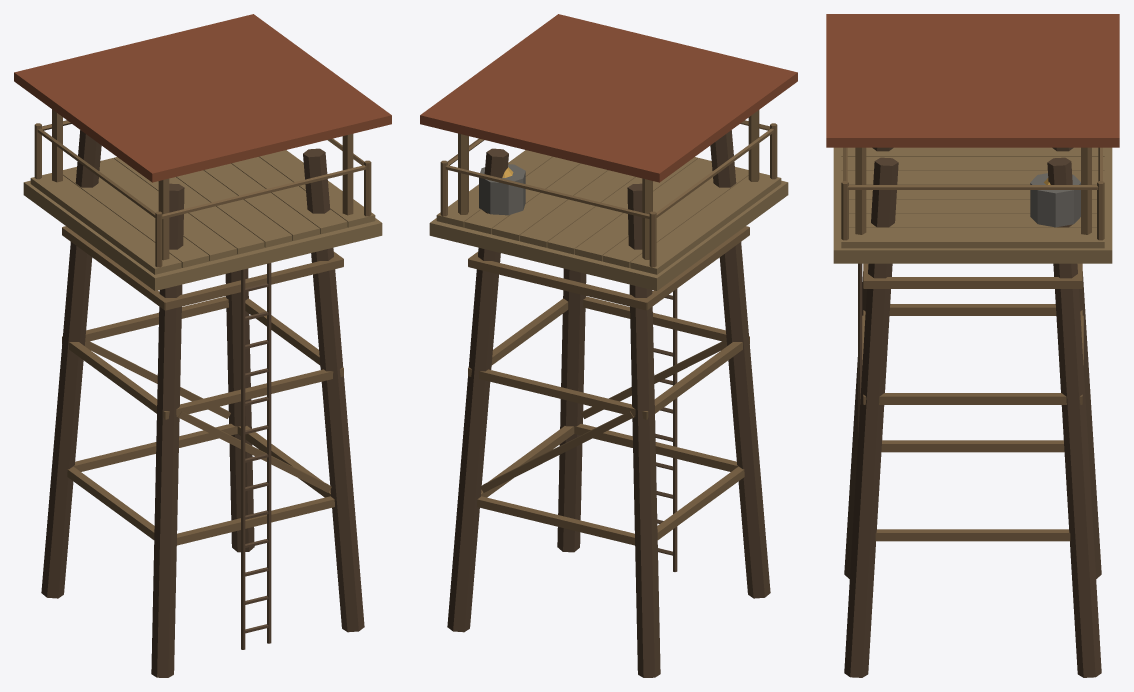
The model's file is S_Watchtower.glb.
3 views of the same model, side by side, from view 1: azimuth 30°, elevation 25°; view 2: azimuth 150°, elevation 25°; view 3: azimuth 270°, elevation 25° (orthographic). The views are drawn at different scales.
Visible parts, largest first — view 1: S_Watchtower; view 2: S_Watchtower; view 3: S_Watchtower.
Boxes of the visible parts, x1,y1,x2,y2 form: S_Watchtower: (14,14,391,677); S_Watchtower: (420,14,797,677); S_Watchtower: (826,14,1119,677).
Size of the model in its own units: 3.9 by 8.06 by 3.9.
